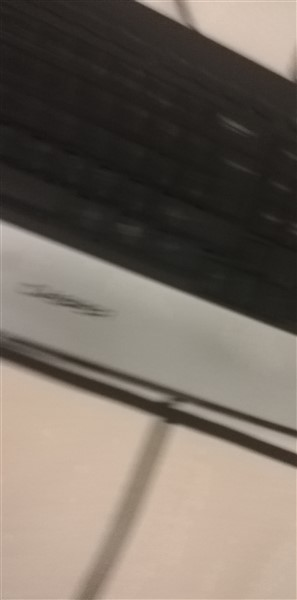klavye: (1, 1, 296, 435)
